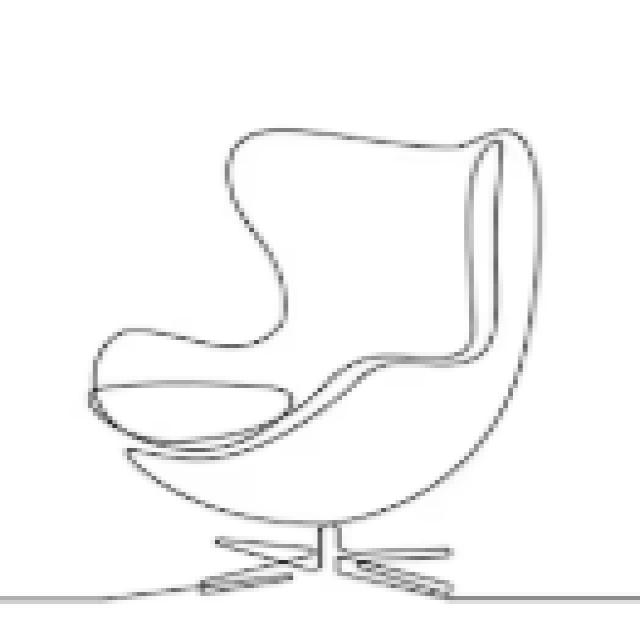Leg_Structure: (191, 544, 469, 613)
egg_armrest: (71, 118, 553, 529)
